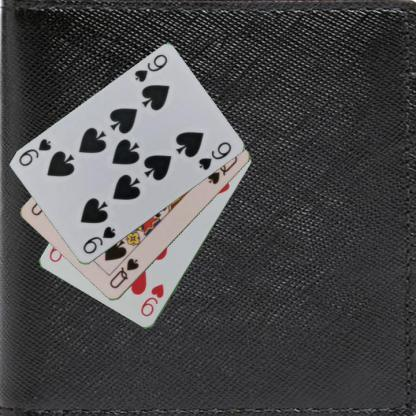9h: (138, 282, 166, 318)
9s: (80, 223, 117, 256), (132, 51, 168, 84)
Qs: (106, 256, 140, 290)
